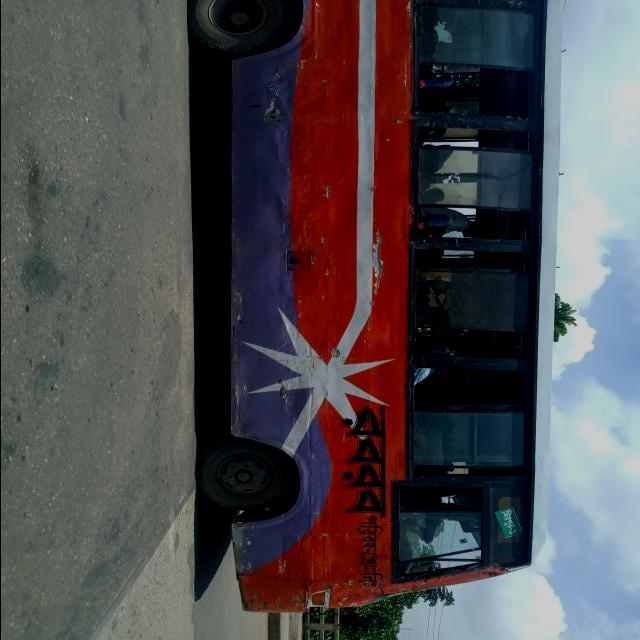bus: (187, 2, 562, 614)
